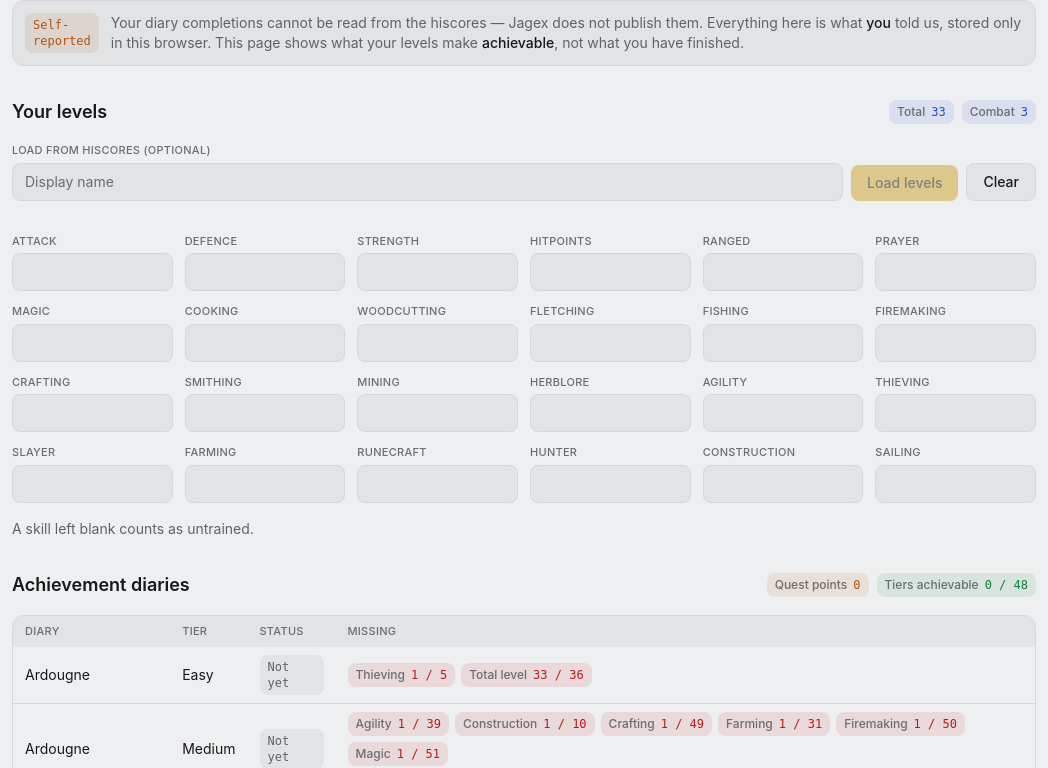
Test: DiaryChecker › flips a tier to achievable once its levels are entered
This screenshot has width=1048, height=768.
Type "5" into the field labelled "Thieving" at (956, 413), box [875, 394, 1036, 432]
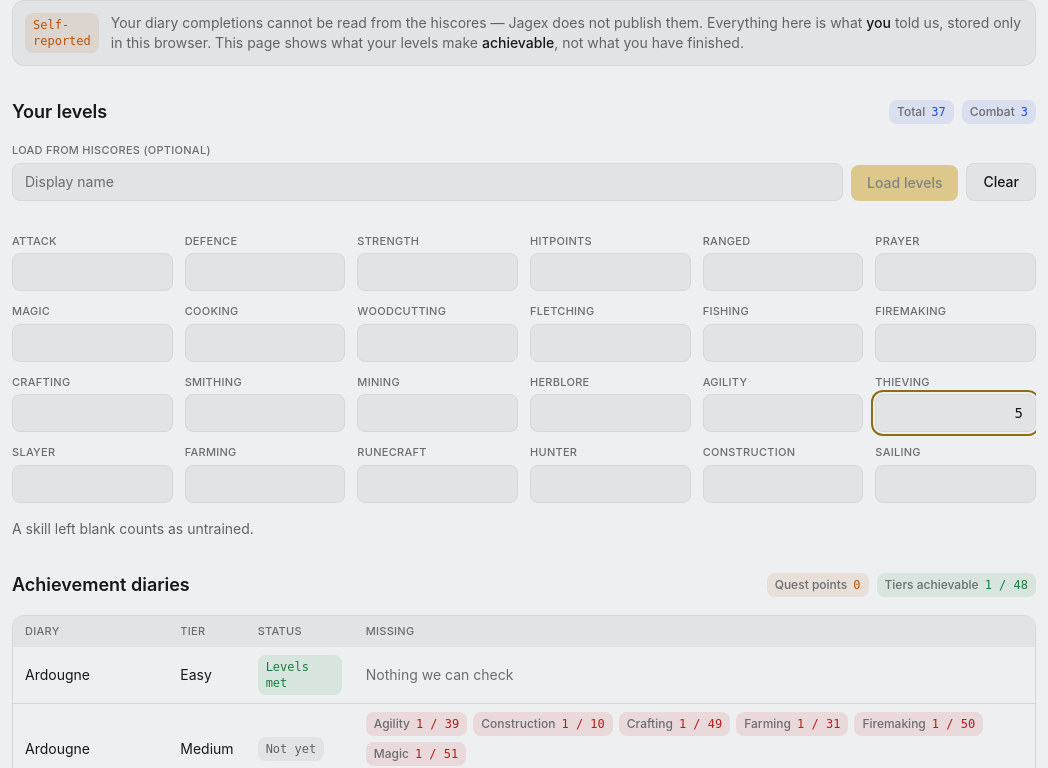
Check: the text "Levels met" is shown, box [266, 660, 309, 690]
